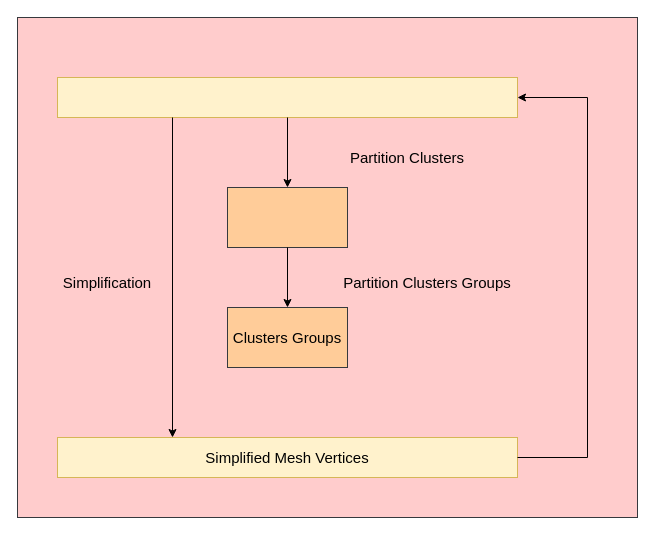
This 655x535 diagram has some shape labels left out. The shapes that lost their labels are listed below. From the top down, each one's centre as x and y in pixels, then its label:
At point (287, 97): "Mesh Vertices".
At point (287, 217): "Clusters".
